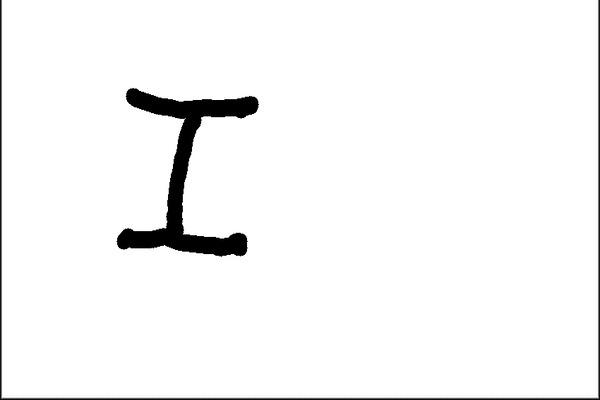i: (109, 72, 263, 270)
